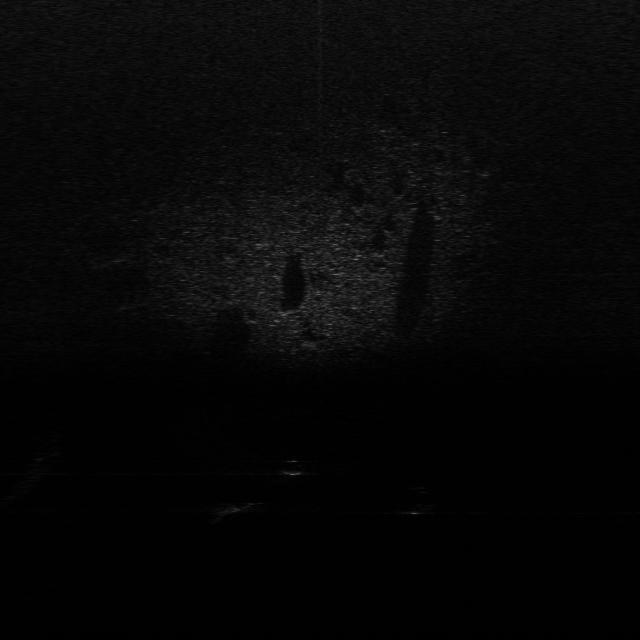ball: (282, 455, 310, 479)
square cage: (210, 499, 268, 520)
tyre: (403, 486, 439, 516)
